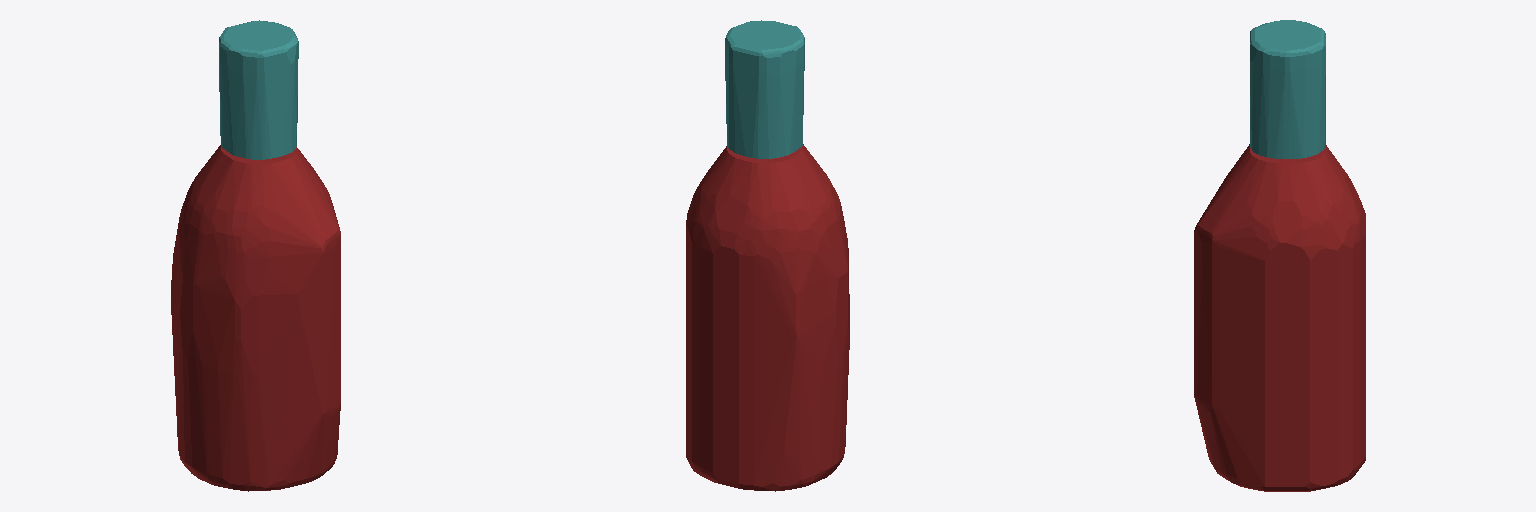
URDF robot description (root):
<robot name="root">
  <link name="bottle_body">
    <inertial>
      <origin xyz="0 0 0" rpy="0 0 0"/>
    </inertial>
    <mass value="1.00E-02"/>
    <visual>
      <origin xyz="0 0 0" rpy="0 0 0"/>
      <geometry>
        <mesh filename="core-bottle-ff13595434879bba557ef92e2fa0ccb2-coacd_convex_piece_1.obj" scale="1.0000E-01 1.0000E-01 1.0000E-01"/>
      </geometry>
      <material name="">
        <color rgba="6.00E-01 2.00E-01 2.00E-01 1"/>
      </material>
    </visual>
    <collision>
      <origin xyz="0 0 0" rpy="0 0 0"/>
      <geometry>
        <mesh filename="core-bottle-ff13595434879bba557ef92e2fa0ccb2-coacd_convex_piece_1.obj" scale="1.0000E-01 1.0000E-01 1.0000E-01"/>
      </geometry>
    </collision>
  </link>
  <link name="bottle_cap">
    <origin xyz="0 0 0.002" rpy="0 0 0"/>
    <mass value="1.00E-02"/>
    <visual>
      <origin xyz="0 0 0.002" rpy="0 0 0"/>
      <geometry>
        <mesh filename="core-bottle-ff13595434879bba557ef92e2fa0ccb2-coacd_convex_piece_0.obj" scale="1.0000E-01 1.0000E-01 1.0000E-01"/>
      </geometry>
      <material name="">
        <color rgba="3.00E-01 6.00E-01 6.00E-01 1"/>
      </material>
    </visual>
    <collision>
      <origin xyz="0 0 0.002" rpy="0 0 0"/>
      <geometry>
        <mesh filename="core-bottle-ff13595434879bba557ef92e2fa0ccb2-coacd_convex_piece_0.obj" scale="1.0000E-01 1.0000E-01 1.0000E-01"/>
      </geometry>
    </collision>
  </link>
  <joint name="bottle_cap_joint" type="revolute">
    <origin xyz="0 0 0" rpy="0 0 0"/>
    <parent link="bottle_body"/>
    <child link="bottle_cap"/>
    <axis xyz="0 0 1"/>
    <limit lower="0.00" upper="6.28"/>
    <dynamics damping="0.05"/>
  </joint>
</robot>

--- What the picture shows (computed from the rendered views, not written in the file) ---
3 views of the same robot in one strip: view 1: azimuth 30°, elevation 25°; view 2: azimuth 150°, elevation 25°; view 3: azimuth 270°, elevation 25° (orthographic).
Model root with 2 links and 1 joints (1 revolute), rooted at bottle_body, posed every joint at zero.
Visible links, largest first — view 1: bottle_body, bottle_cap; view 2: bottle_body, bottle_cap; view 3: bottle_body, bottle_cap.
Boxes of the visible links, x1=… form: bottle_body: x1=171, y1=145, x2=340, y2=491; bottle_cap: x1=219, y1=20, x2=298, y2=159; bottle_body: x1=686, y1=144, x2=849, y2=491; bottle_cap: x1=725, y1=20, x2=804, y2=158; bottle_body: x1=1194, y1=144, x2=1365, y2=491; bottle_cap: x1=1250, y1=20, x2=1325, y2=158.
Size in the robot's own frame: 0.0649 by 0.069 by 0.1887 metres.
Meshes: 2 distinct files referenced, 2 mesh visuals loaded (2 OBJ).